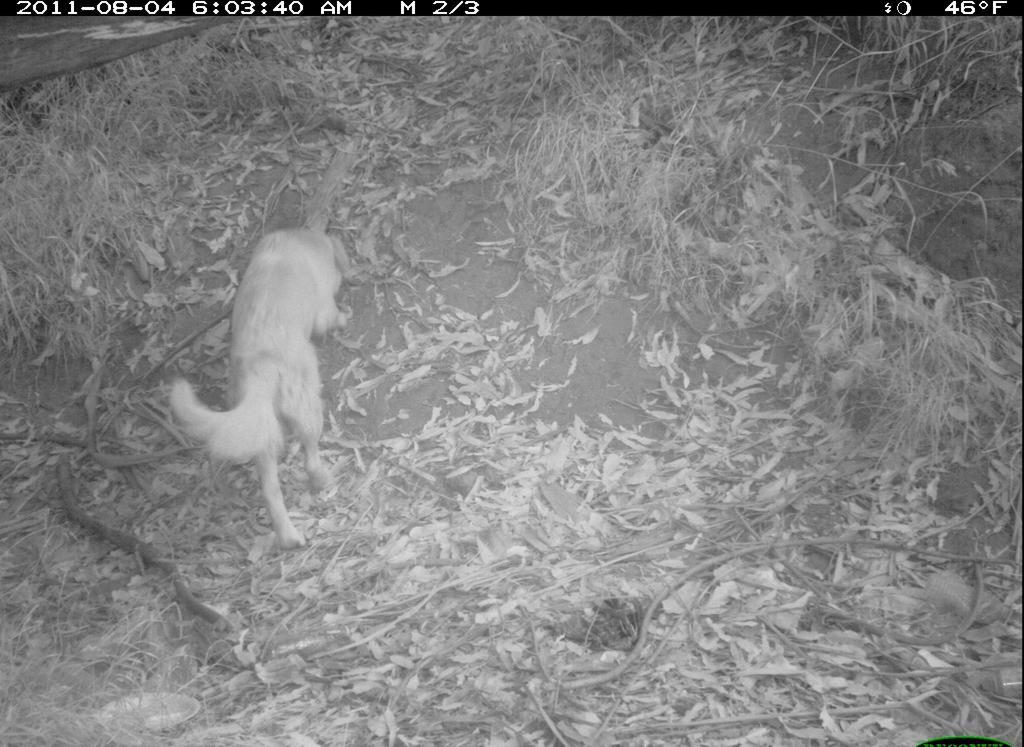dog: (150, 208, 373, 565)
